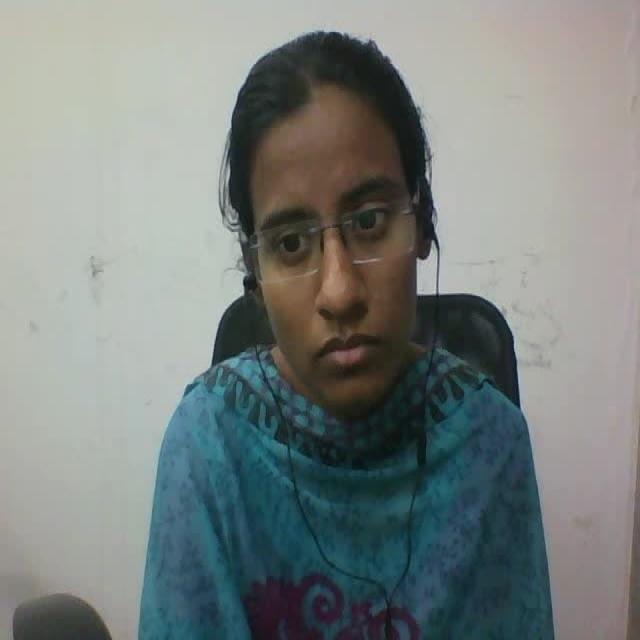Engaged: (202, 14, 501, 434)
